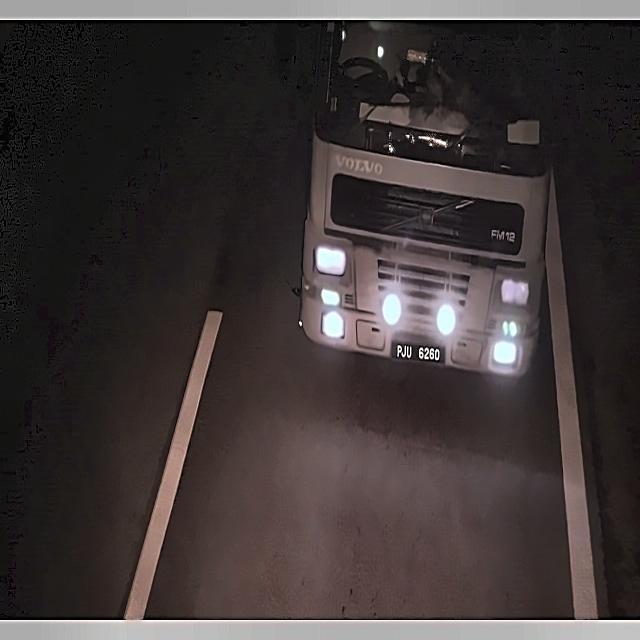car: (390, 338, 446, 368)
